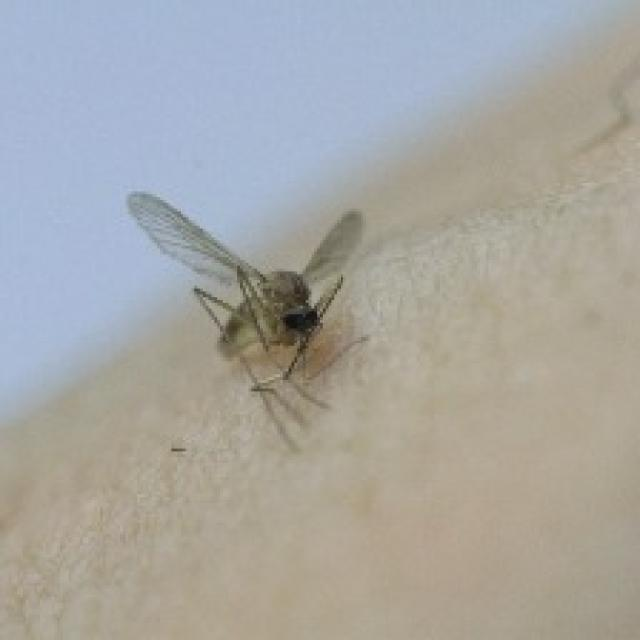culex: (123, 186, 368, 454)
